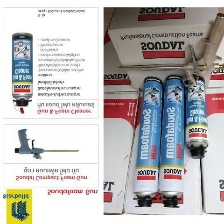aerosol_cans: (128, 74, 167, 210), (153, 73, 191, 211), (182, 72, 212, 161)
